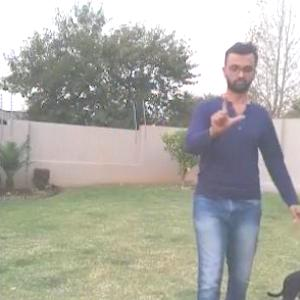land_hand: (206, 88, 248, 136)
